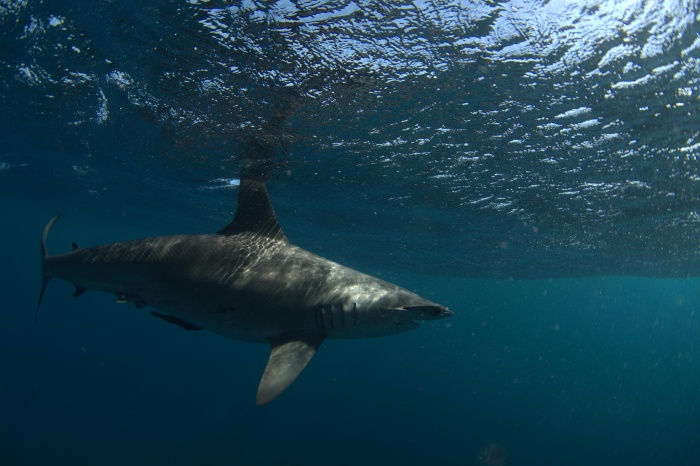Hammer: (13, 163, 465, 414)
